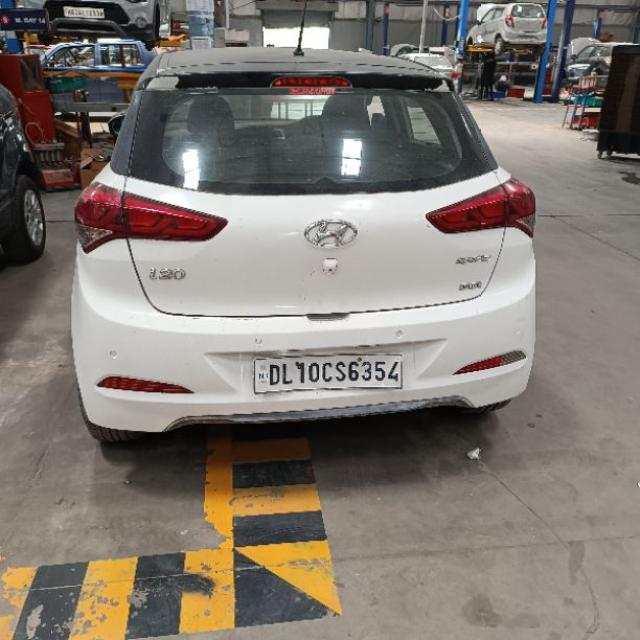license_plate: (252, 352, 404, 393)
